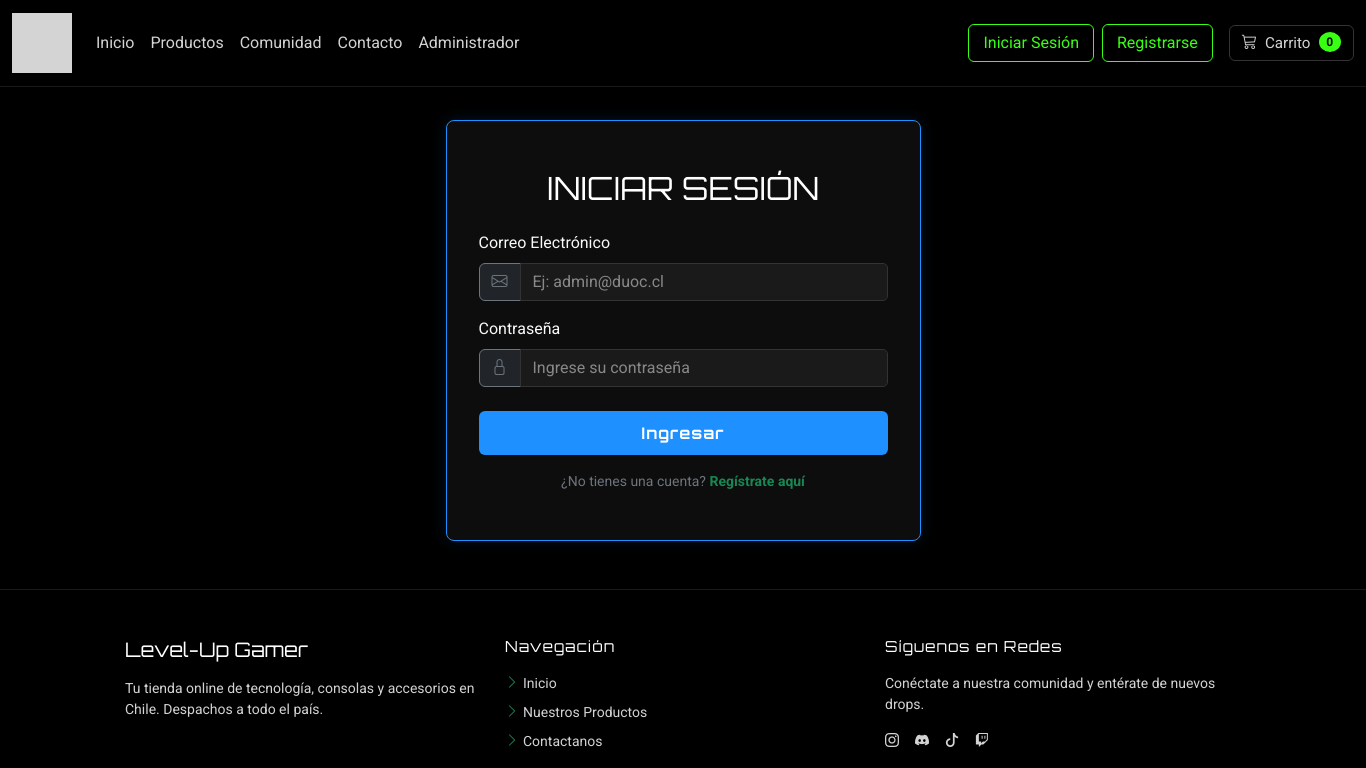
Test: Comprobar que el formulario bloquea el ingreso y alerta si el correo está vacío
This screenshot has width=1366, height=768.
Simulamos el clic directo sin llenar ningún dato en el formulario
Click the button "Ingresar" at {"x": 683, "y": 433}, box [478,411,888,455]
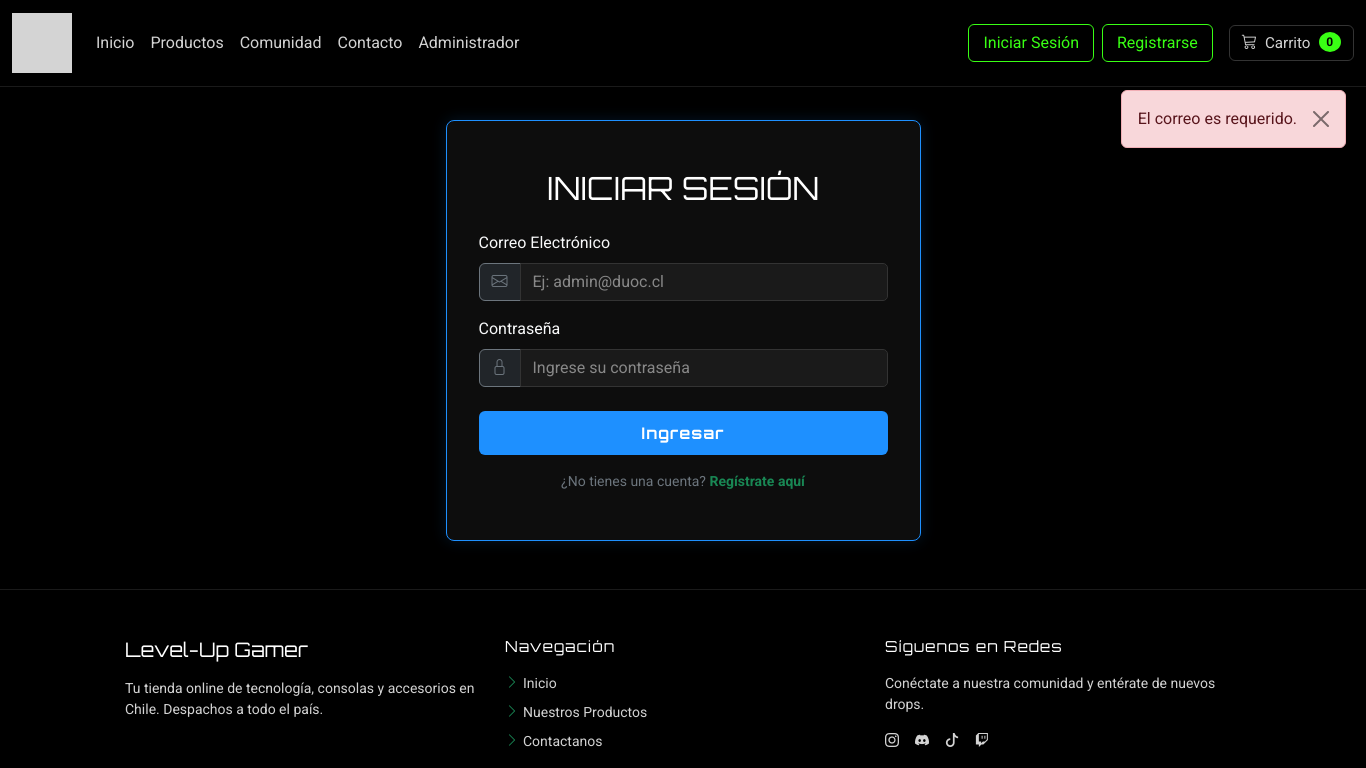
Expected: the text "El correo es requerido." is shown, [1121,90,1346,148]
